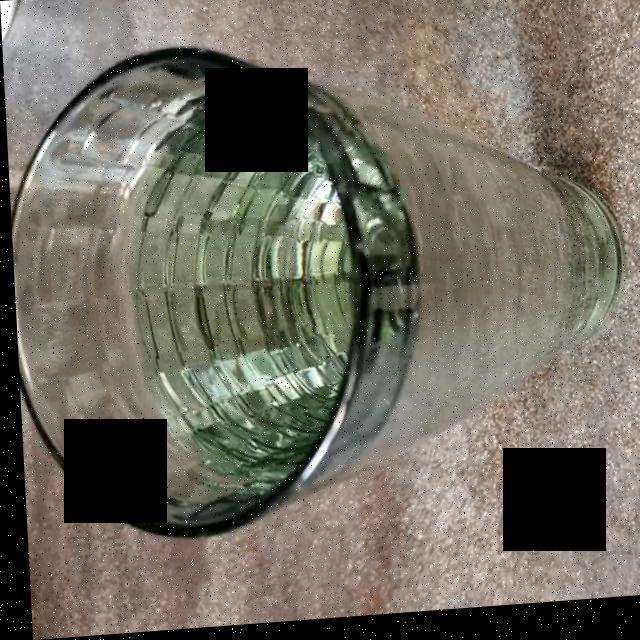water: (119, 94, 356, 490)
